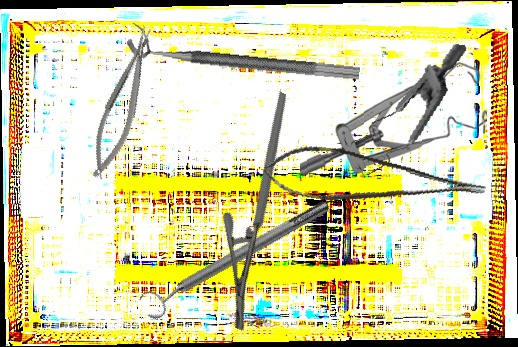Fixation Ring: (135, 191, 337, 324), (125, 22, 363, 82)
Micro Scissor: (258, 133, 488, 235)
Needle Holder: (165, 90, 358, 333), (79, 23, 168, 184)
Speculum: (298, 61, 488, 177), (335, 25, 467, 190)
